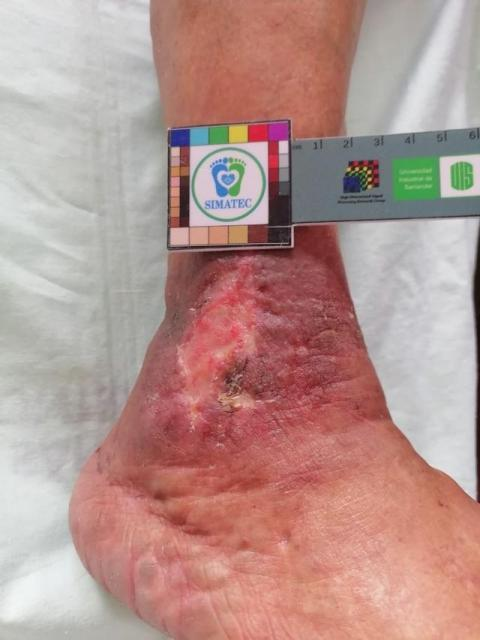wound: (175, 256, 262, 429)
